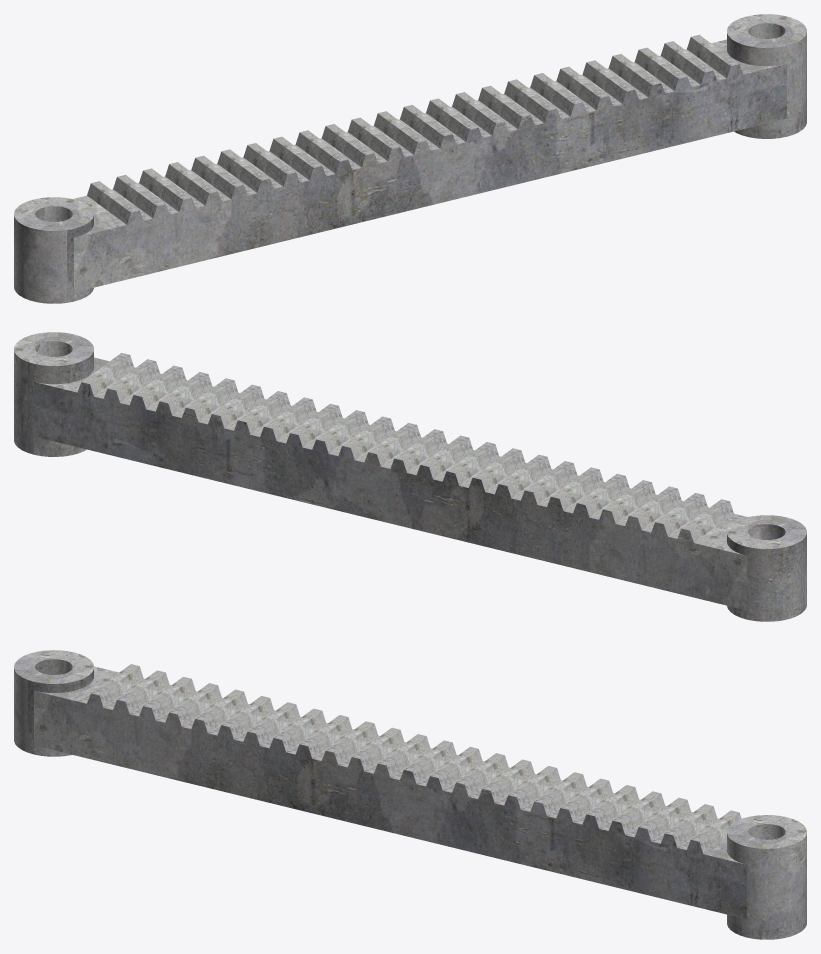
Rendered from SecC_Prob1.obj.
3 renders of one model, top to bottom at view 1: azimuth 30°, elevation 25°; view 2: azimuth 150°, elevation 25°; view 3: azimuth 330°, elevation 25°, orthographic.
Parts seen in each view (by area): view 1: SecC_Prob1; view 2: SecC_Prob1; view 3: SecC_Prob1.
Boxes of the visible parts, bbox=[...] form: SecC_Prob1: bbox=[14, 14, 806, 303]; SecC_Prob1: bbox=[14, 332, 806, 621]; SecC_Prob1: bbox=[14, 650, 806, 939].
Bounding box in the file's own units: 0.18 × 0.02 × 0.016.
